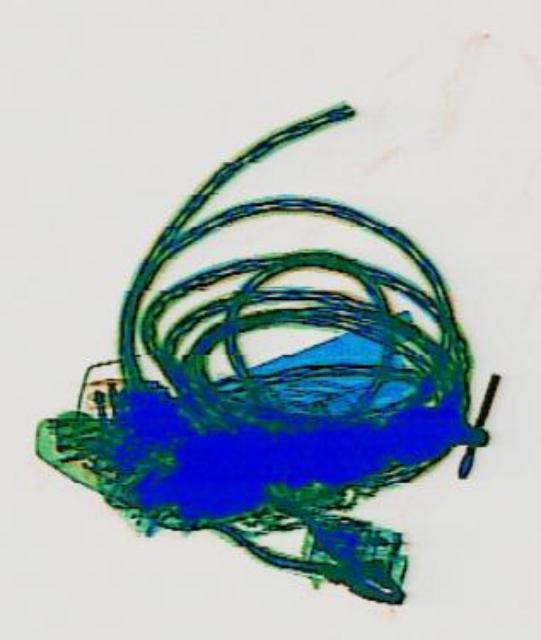Pliers: (207, 466, 418, 630)
